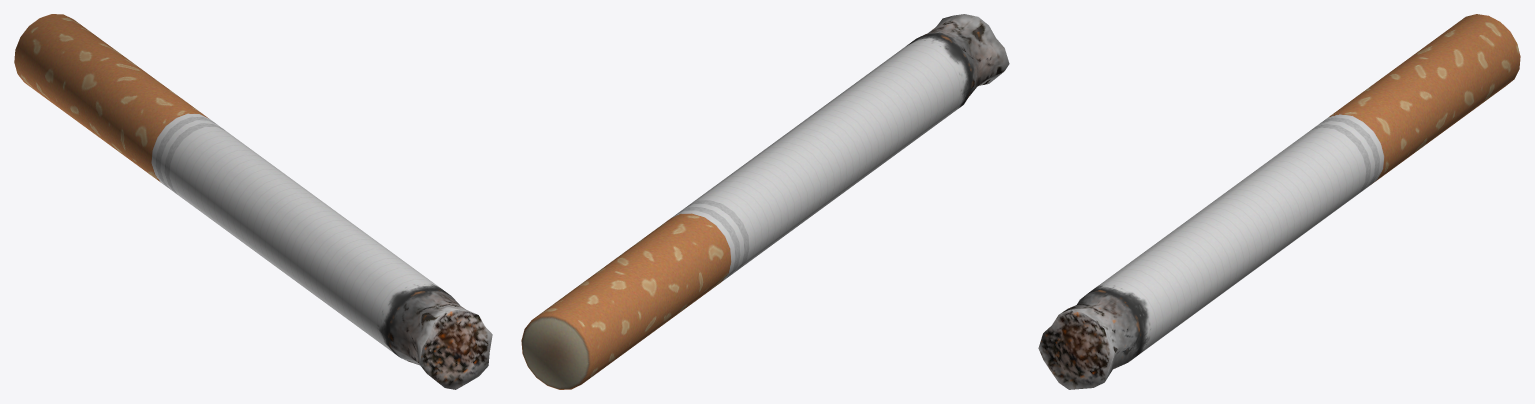
File: ashme-cigarette.glb
3 views of the same model, side by side, from view 1: azimuth 30°, elevation 25°; view 2: azimuth 150°, elevation 25°; view 3: azimuth 330°, elevation 25° (orthographic).
Parts seen in each view (by area): view 1: Cylinder001; view 2: Cylinder001; view 3: Cylinder001.
Boxes of the visible parts, bbox=[...] form: Cylinder001: bbox=[14, 14, 492, 389]; Cylinder001: bbox=[521, 14, 1009, 389]; Cylinder001: bbox=[1038, 14, 1520, 389].
Size of the model in its own units: 0.5628 by 0.5342 by 5.42.
1 material, 1 textured.
